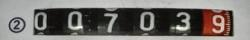digits: (67, 11, 83, 30), (103, 12, 118, 32), (175, 11, 190, 31), (139, 11, 154, 30), (211, 14, 225, 33), (34, 12, 47, 30)
